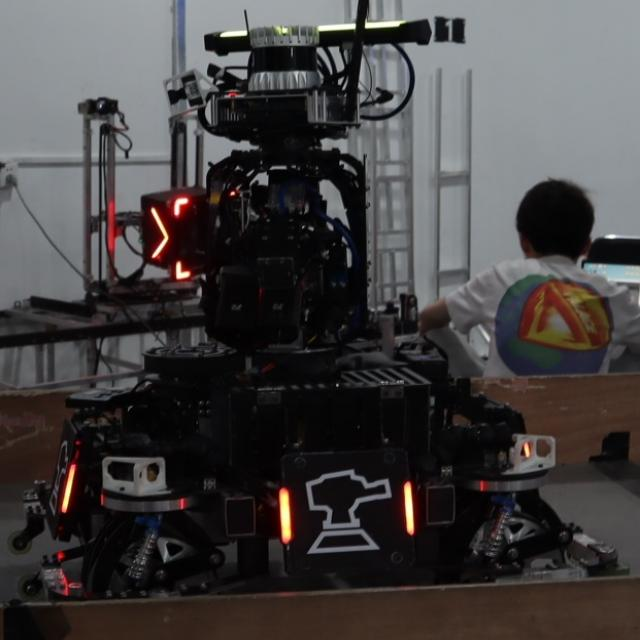Rs: (281, 456, 418, 562), (48, 436, 78, 518)
